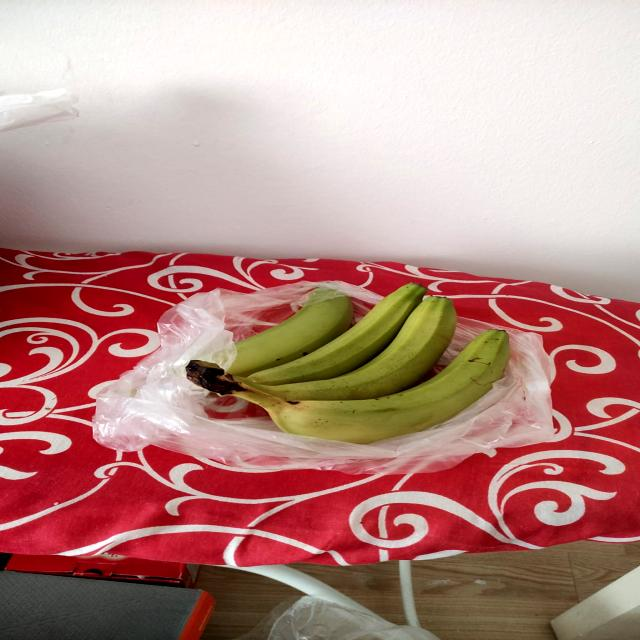banana: (178, 282, 532, 436), (183, 325, 529, 448)
